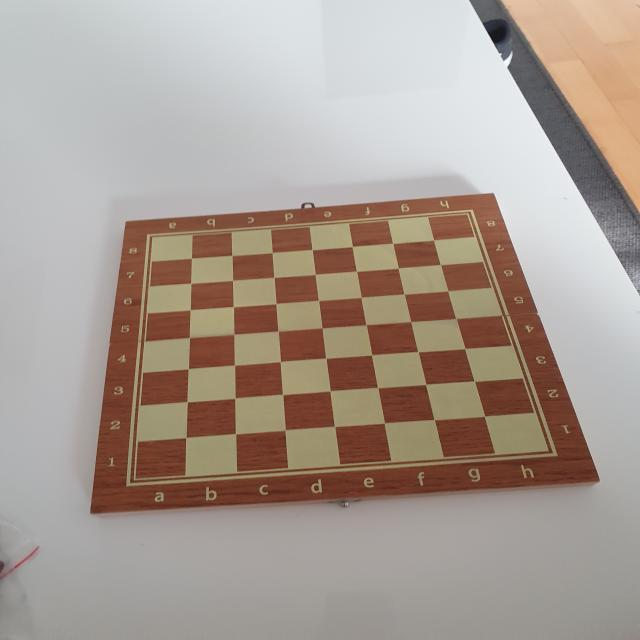chess-table-corners: (115, 472, 146, 490), (457, 203, 485, 222), (138, 227, 164, 246), (536, 445, 564, 462)
